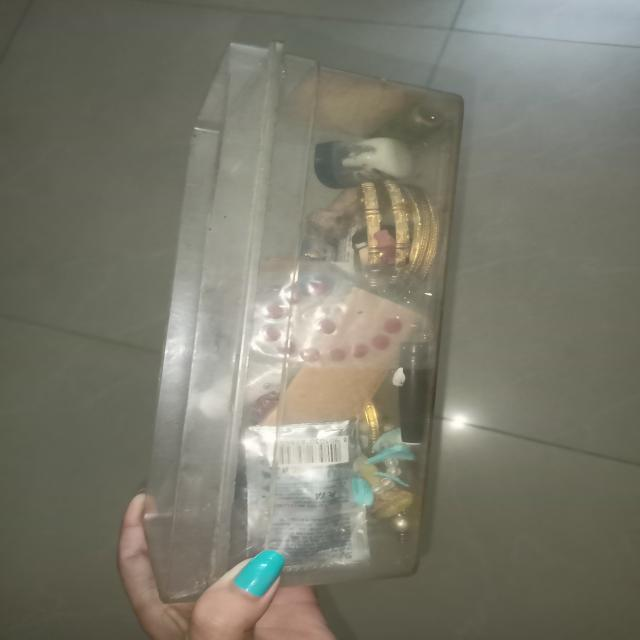plastic_box: (148, 17, 460, 594)
